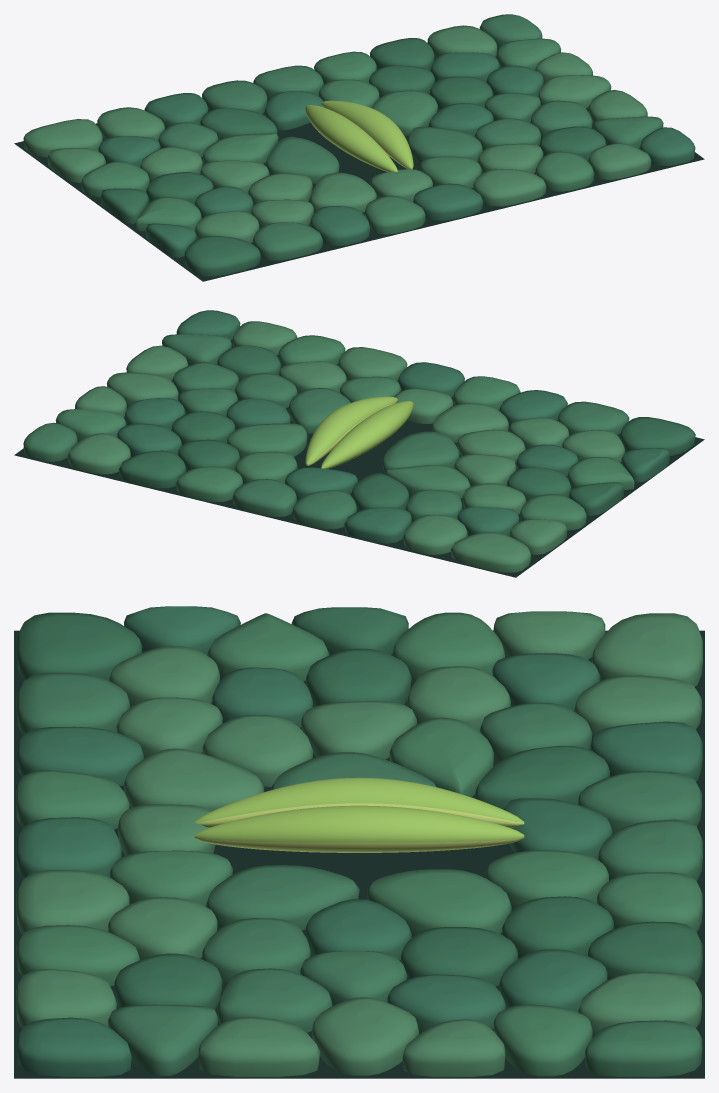
Rendered from stoma-v2.glb.
3 renders of one model, top to bottom at view 1: azimuth 30°, elevation 25°; view 2: azimuth 150°, elevation 25°; view 3: azimuth 270°, elevation 25°, orthographic. The views are drawn at different scales.
Visible parts, largest first — view 1: Epidermis_substrate, Epidermis_03, GuardCell_L, Epidermis_31, GuardCell_R, Epidermis_08, Epidermis_04, Epidermis_51, Epidermis_24, Epidermis_07, Epidermis_38, Epidermis_15 (+48 smaller); view 2: Epidermis_substrate, Epidermis_51, GuardCell_L, GuardCell_R, Epidermis_31, Epidermis_03, Epidermis_38, Epidermis_52, Epidermis_54, Epidermis_57, Epidermis_58, Epidermis_53 (+48 smaller); view 3: Epidermis_substrate, GuardCell_R, GuardCell_L, Epidermis_38, Epidermis_24, Epidermis_03, Epidermis_34, Epidermis_51, Epidermis_15, Epidermis_27, Epidermis_59, Epidermis_11 (+48 smaller).
Boxes of the visible parts, x1,y1,x2,y2 form: Epidermis_substrate: (14,42,704,281); Epidermis_03: (184,236,260,276); GuardCell_L: (305,105,397,171); Epidermis_31: (266,136,339,183); GuardCell_R: (321,100,413,169); Epidermis_08: (473,169,546,206); Epidermis_04: (253,222,322,260); Epidermis_51: (23,119,102,157); Epidermis_24: (407,126,482,162); Epidermis_07: (413,183,483,220); Epidermis_38: (371,90,437,135); Epidermis_15: (310,172,376,212); Epidermis_substrate: (14,326,704,577); Epidermis_51: (451,532,531,572); GuardCell_L: (321,401,413,468); GuardCell_R: (305,396,397,465); Epidermis_31: (382,431,459,473); Epidermis_03: (620,417,695,455); Epidermis_38: (227,423,307,457); Epidermis_52: (403,514,467,554); Epidermis_54: (293,490,356,529); Epidermis_57: (119,450,185,488); Epidermis_58: (68,433,130,474); Epidermis_53: (344,507,411,543); Epidermis_substrate: (14,630,704,1078); GuardCell_R: (194,805,524,852); GuardCell_L: (194,777,524,827); Epidermis_38: (366,869,511,935); Epidermis_24: (206,865,359,930); Epidermis_03: (16,612,142,680); Epidermis_34: (312,997,418,1075); Epidermis_51: (591,613,702,686); Epidermis_15: (123,748,264,811); Epidermis_27: (198,1017,320,1076); Epidermis_59: (585,1020,702,1076); Epidermis_11: (16,1017,131,1076).
Bounding box in the file's own units: 9.2 × 0.563 × 6.
